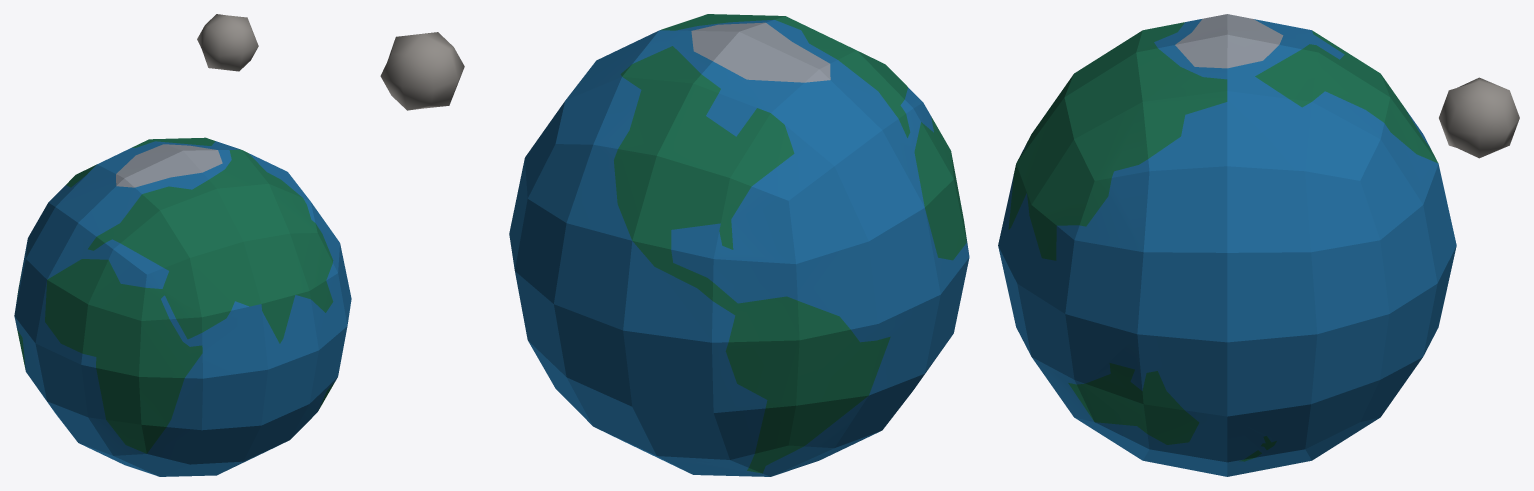
File: SM_Env_Scale_Earth_01.fbx
The picture shows the model from 3 angles, left to right: view 1: azimuth 30°, elevation 25°; view 2: azimuth 150°, elevation 25°; view 3: azimuth 270°, elevation 25°; orthographic projection. The views are drawn at different scales.
Visible parts, largest first — view 1: SM_Env_Scale_Earth_01, SM_Env_Scale_Moon_01; view 2: SM_Env_Scale_Earth_01, SM_Env_Scale_Moon_01; view 3: SM_Env_Scale_Earth_01, SM_Env_Scale_Moon_01.
Boxes of the visible parts, bbox=[...] form: SM_Env_Scale_Earth_01: bbox=[14, 137, 351, 476]; SM_Env_Scale_Moon_01: bbox=[197, 14, 258, 71]; SM_Env_Scale_Earth_01: bbox=[509, 14, 969, 476]; SM_Env_Scale_Moon_01: bbox=[380, 32, 464, 110]; SM_Env_Scale_Earth_01: bbox=[998, 14, 1456, 476]; SM_Env_Scale_Moon_01: bbox=[1439, 77, 1519, 158].
Bounding box in the file's own units: 9.68 × 10.27 × 10.42.
